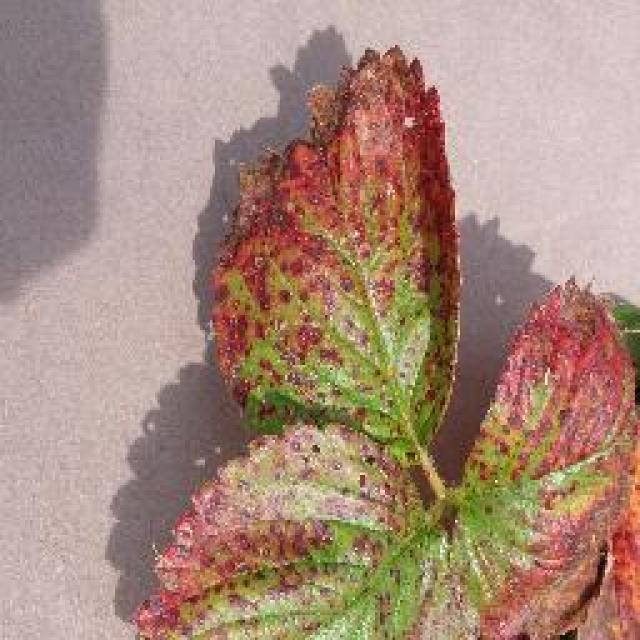Strawberry___Leaf_scorch: (97, 12, 640, 639)
